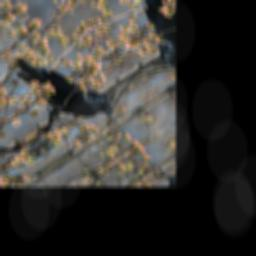Crow: (0, 36, 125, 152)
